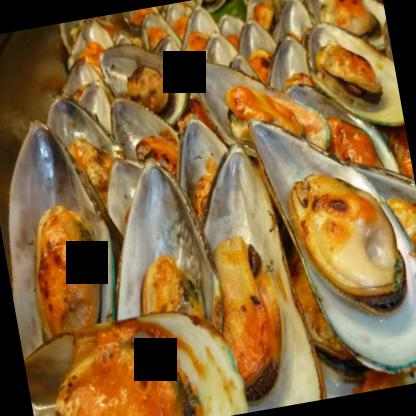mussel: (252, 95, 415, 392), (178, 139, 327, 414), (0, 110, 125, 342), (19, 297, 253, 415), (99, 154, 224, 320), (192, 42, 334, 168), (343, 149, 415, 388), (305, 11, 404, 140), (95, 36, 192, 130)
